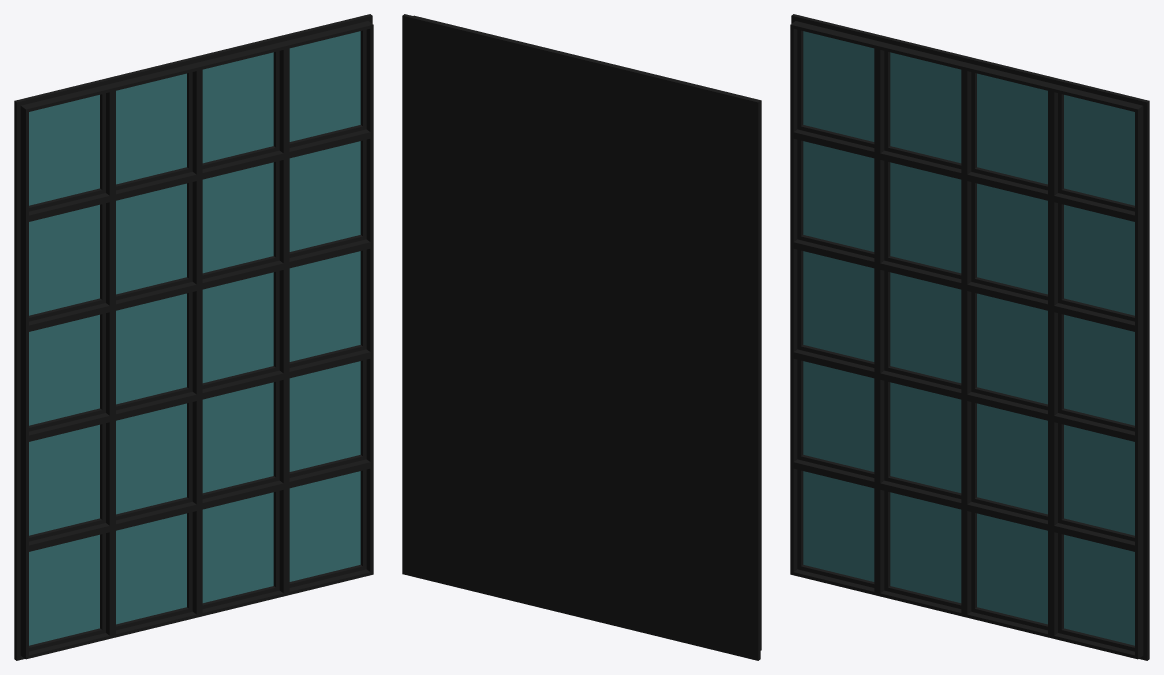
File: Window.fbx
3 views of the same model, side by side, from view 1: azimuth 30°, elevation 25°; view 2: azimuth 150°, elevation 25°; view 3: azimuth 330°, elevation 25° (orthographic).
Visible parts, largest first — view 1: Window; view 2: Window; view 3: Window.
Boxes of the visible parts, x1,y1,x2,y2 form: Window: (14, 14, 373, 660); Window: (402, 14, 761, 660); Window: (790, 14, 1149, 660).
Size of the model in its own units: 200 by 300 by 7.17.
Materials: 1 (1 with a texture image).
